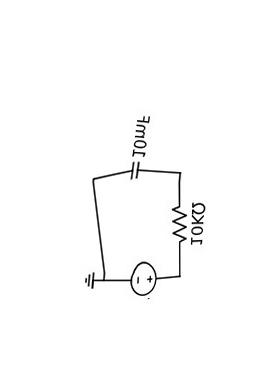Battery: (119, 251, 164, 311)
